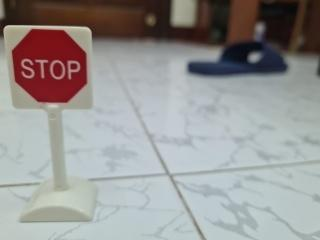stop: (0, 20, 99, 118)
